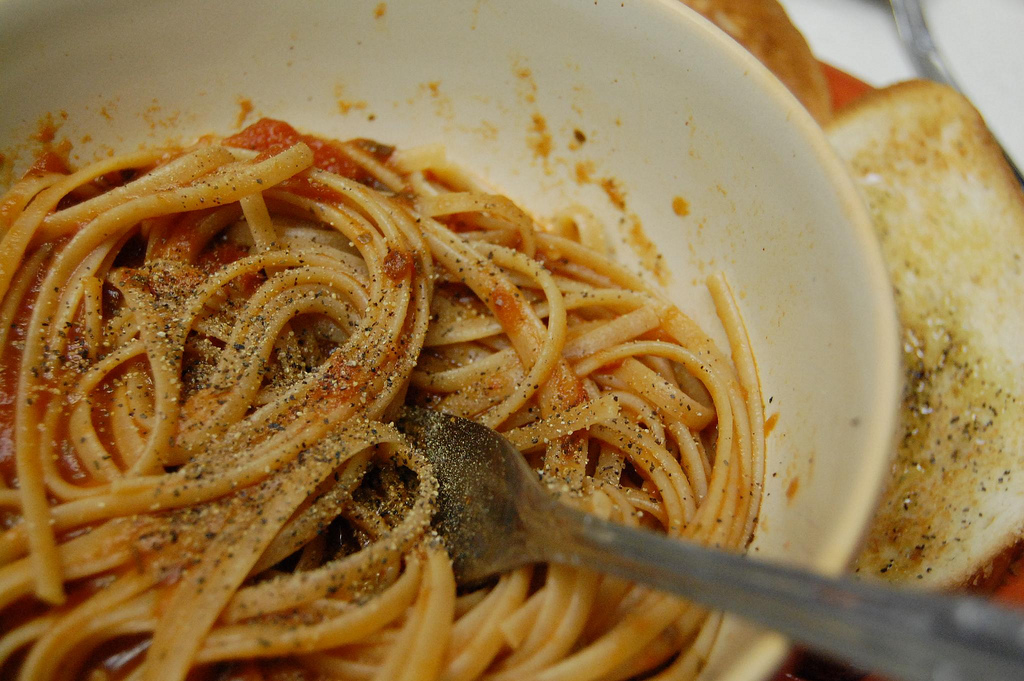plain spaghetti: (47, 206, 401, 670)
